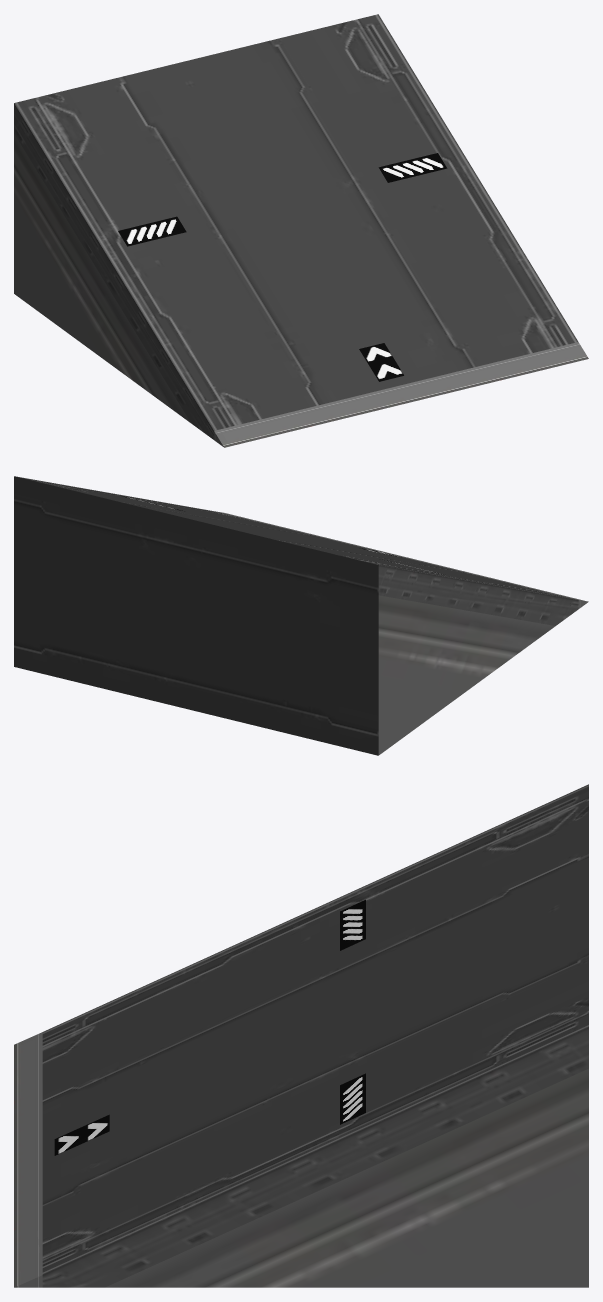
File: fut-rampa.gltf
3 views of the same model, one above another, from view 1: azimuth 30°, elevation 25°; view 2: azimuth 150°, elevation 25°; view 3: azimuth 270°, elevation 25° (orthographic). The views are drawn at different scales.
Visible parts, largest first — view 1: Platform_Ramp_2; view 2: Platform_Ramp_2; view 3: Platform_Ramp_2.
Boxes of the visible parts, <box> form: Platform_Ramp_2: <box>14,14,588,447</box>; Platform_Ramp_2: <box>14,476,588,755</box>; Platform_Ramp_2: <box>14,784,588,1287</box>.
Bounding box in the file's own units: 1 × 0.5 × 1.
Materials: 3 (3 with a texture image).
